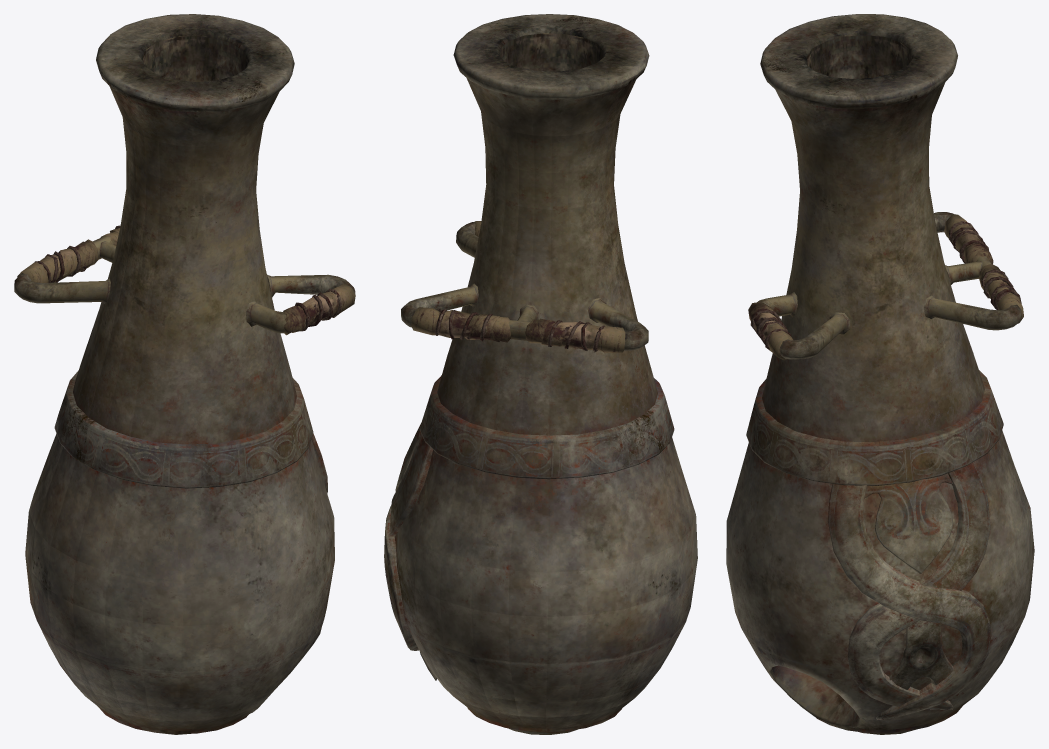
File: ac_pd_jarcannon.glb
3 renders of one model, left to right at view 1: azimuth 30°, elevation 25°; view 2: azimuth 150°, elevation 25°; view 3: azimuth 270°, elevation 25°, orthographic.
Visible parts, largest first — view 1: JarCannon; view 2: JarCannon; view 3: JarCannon.
Part boxes in pixels (x1=…): JarCannon: x1=14, y1=14, x2=355, y2=734; JarCannon: x1=384, y1=14, x2=697, y2=734; JarCannon: x1=726, y1=14, x2=1034, y2=734.
Size of the model in its own units: 27.51 by 64.46 by 26.94.
Materials: 1 (1 with a texture image).
